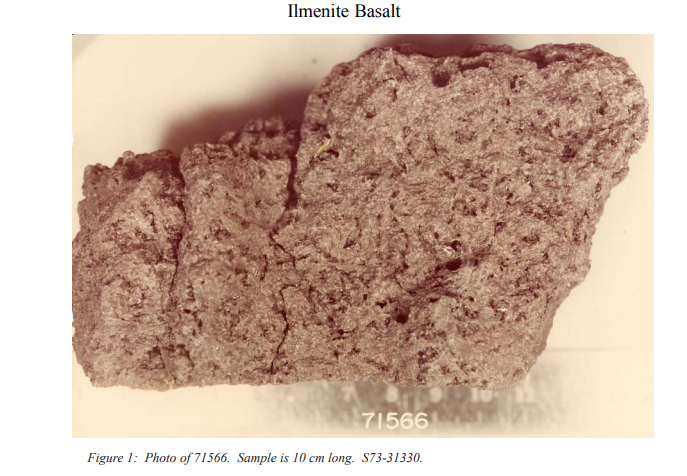Basalt: (71, 31, 650, 402), (166, 171, 521, 349)
